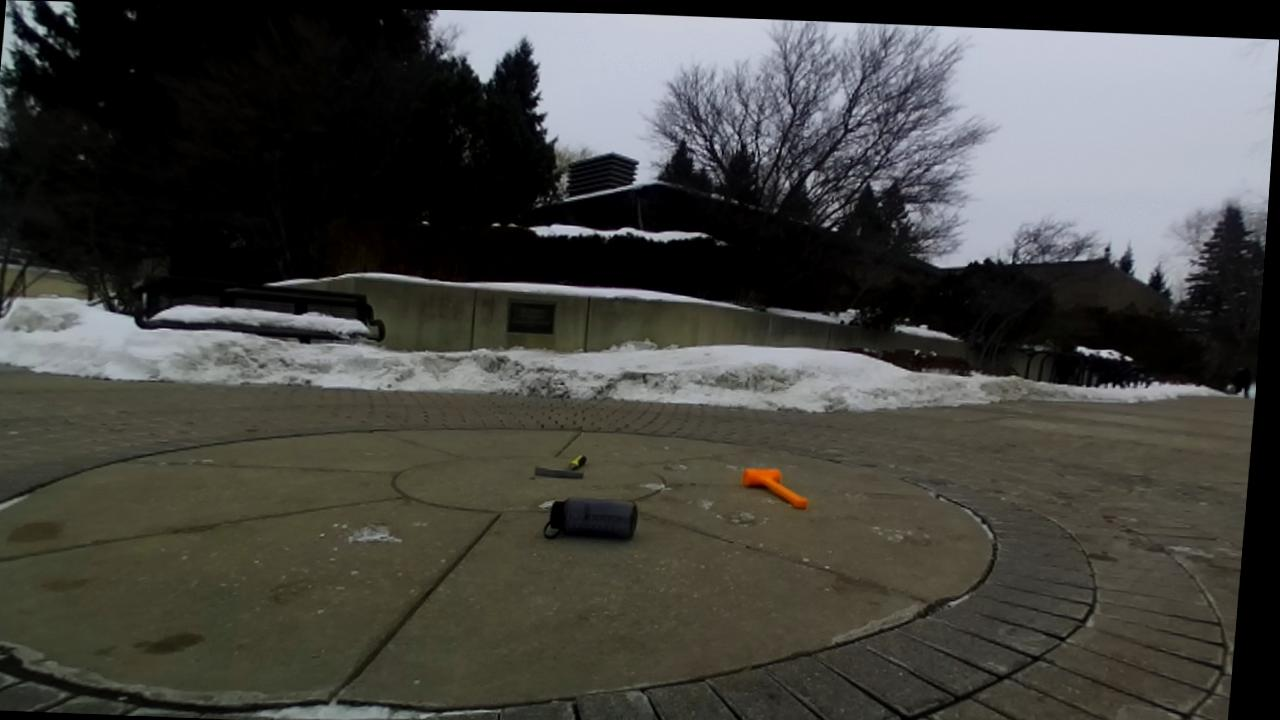bottle: (543, 498, 638, 539)
mallet: (744, 470, 806, 508)
pick: (535, 455, 586, 479)
